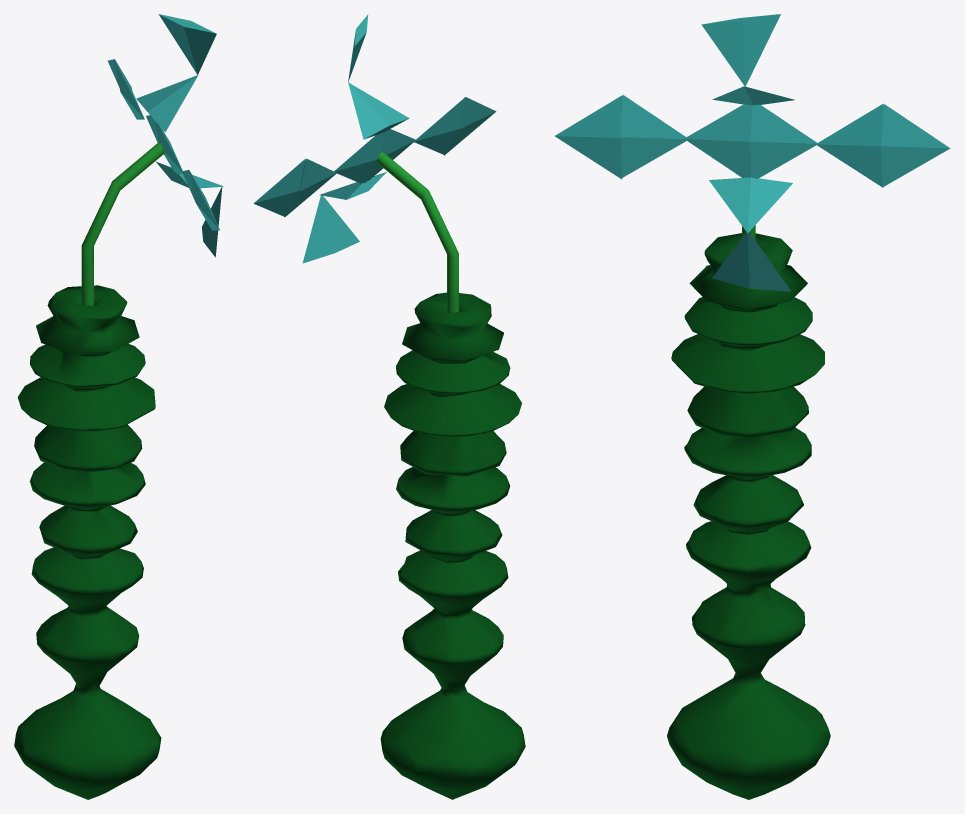
The model's file is Triflower.fbx.
The picture shows the model from 3 angles, left to right: view 1: azimuth 30°, elevation 25°; view 2: azimuth 150°, elevation 25°; view 3: azimuth 270°, elevation 25°; orthographic projection. The views are drawn at different scales.
Parts seen in each view (by area): view 1: pasted__plantBase, pasted__Stem, pasted__leafInner3, pasted__leafOuterTop, pasted__leafInner4, pasted__leafOuter1, pasted__leafOuter3, pasted__leafOuterbot, pasted__leafInner1; view 2: pasted__plantBase, pasted__Stem, pasted__leafInner4, pasted__leafOuterTop, pasted__leafInner5, pasted__leafOuter2, pasted__leafInner2, pasted__leafOuter1, pasted__leafOuter3, pasted__leafInner1, pasted__leafOuterbot; view 3: pasted__plantBase, pasted__leafInner5, pasted__leafOuter2, pasted__leafInner2, pasted__leafOuter3, pasted__leafInner3, pasted__leafInner1, pasted__leafOuter1, pasted__leafOuterbot, pasted__leafInner4, pasted__leafOuterTop.
Part boxes in pixels (bbox=[...]): pasted__plantBase: bbox=[14, 285, 161, 799]; pasted__Stem: bbox=[81, 142, 164, 305]; pasted__leafInner3: bbox=[158, 14, 216, 74]; pasted__leafOuterTop: bbox=[136, 75, 198, 132]; pasted__leafInner4: bbox=[201, 187, 222, 257]; pasted__leafOuter1: bbox=[114, 60, 144, 119]; pasted__leafOuter3: bbox=[189, 171, 219, 230]; pasted__leafOuterbot: bbox=[156, 161, 223, 188]; pasted__leafInner1: bbox=[155, 121, 182, 174]; pasted__plantBase: bbox=[380, 292, 525, 799]; pasted__Stem: bbox=[376, 152, 458, 312]; pasted__leafInner4: bbox=[302, 194, 359, 263]; pasted__leafOuterTop: bbox=[348, 82, 409, 139]; pasted__leafInner5: bbox=[253, 158, 305, 216]; pasted__leafOuter2: bbox=[413, 97, 465, 154]; pasted__leafInner2: bbox=[334, 132, 384, 183]; pasted__leafOuter1: bbox=[284, 159, 336, 217]; pasted__leafOuter3: bbox=[444, 97, 496, 155]; pasted__leafInner1: bbox=[367, 129, 415, 181]; pasted__leafOuterbot: bbox=[320, 172, 386, 199]; pasted__plantBase: bbox=[667, 233, 830, 799]; pasted__leafInner5: bbox=[881, 104, 950, 187]; pasted__leafOuter2: bbox=[620, 95, 686, 177]; pasted__leafInner2: bbox=[750, 104, 818, 178]; pasted__leafOuter3: bbox=[555, 95, 622, 179]; pasted__leafInner3: bbox=[701, 14, 780, 86]; pasted__leafInner1: bbox=[684, 104, 752, 177]; pasted__leafOuter1: bbox=[817, 104, 883, 187]; pasted__leafOuterbot: bbox=[709, 177, 792, 232]; pasted__leafInner4: bbox=[712, 230, 791, 291]; pasted__leafOuterTop: bbox=[712, 86, 794, 105].
Size of the model in its own units: 4.39 by 15.78 by 6.8.
